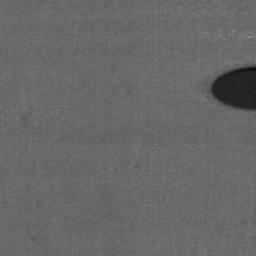Punching: (211, 66, 256, 110)
